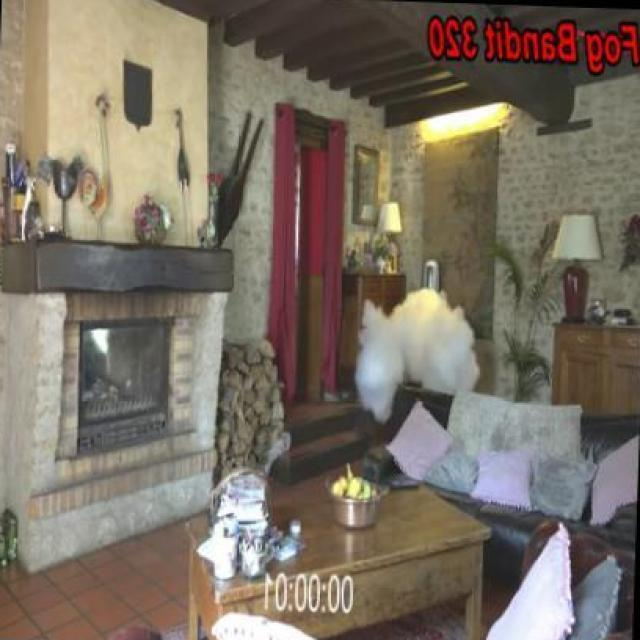fire: (356, 286, 482, 424)
